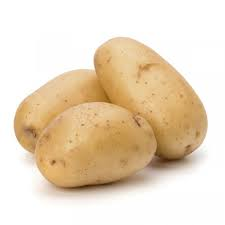potato: (36, 100, 158, 189)
